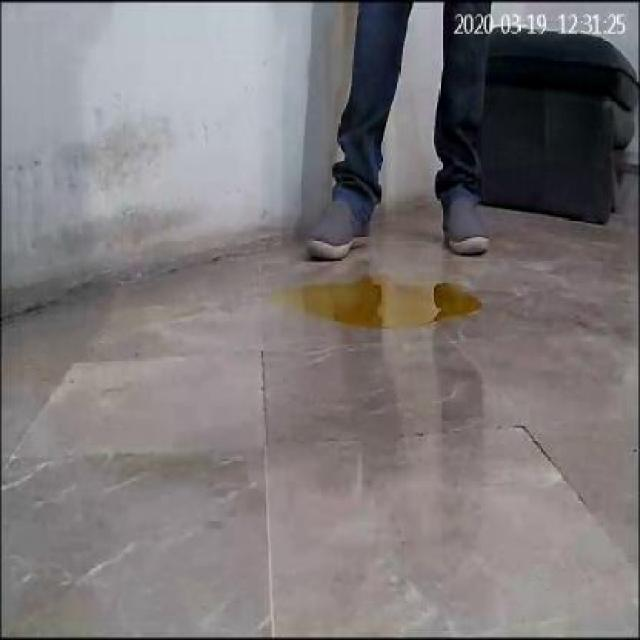spill: (266, 269, 479, 331)
